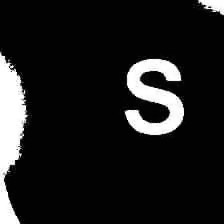LTR_S: (119, 52, 195, 141)
